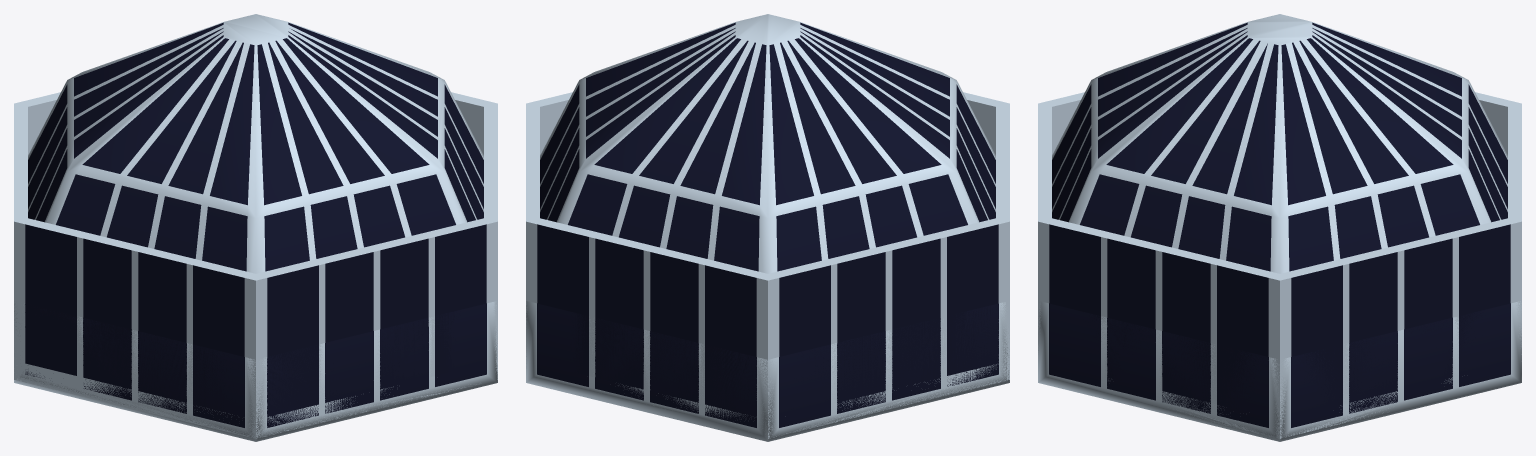
The model's file is gexagonScysc.fbx.
3 views of the same model, side by side, from view 1: azimuth 30°, elevation 25°; view 2: azimuth 150°, elevation 25°; view 3: azimuth 270°, elevation 25° (orthographic).
Parts seen in each view (by area): view 1: top, walls; view 2: top, walls; view 3: top, walls.
Boxes of the visible parts, box(x1,y1,x2,y2) form: top: box(14, 14, 497, 441); walls: box(14, 92, 497, 438); top: box(526, 14, 1009, 441); walls: box(526, 92, 1009, 438); top: box(1038, 14, 1521, 441); walls: box(1038, 92, 1521, 438).
Bounding box in the file's own units: 1600 × 929 × 1386.
